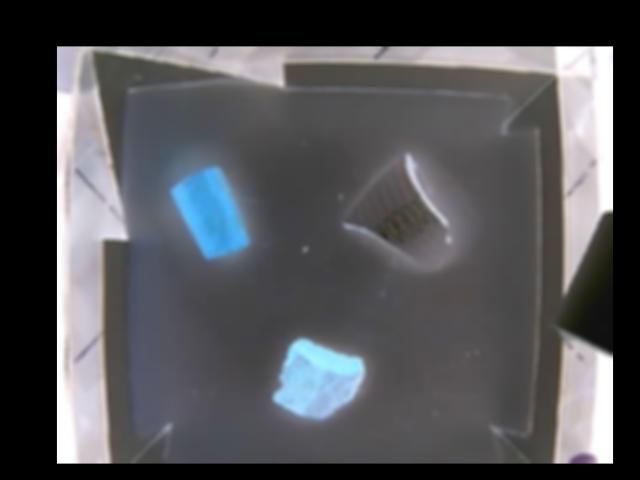Brisk: (270, 337, 367, 422)
Carrot: (169, 164, 249, 261)
China: (341, 153, 454, 269)
